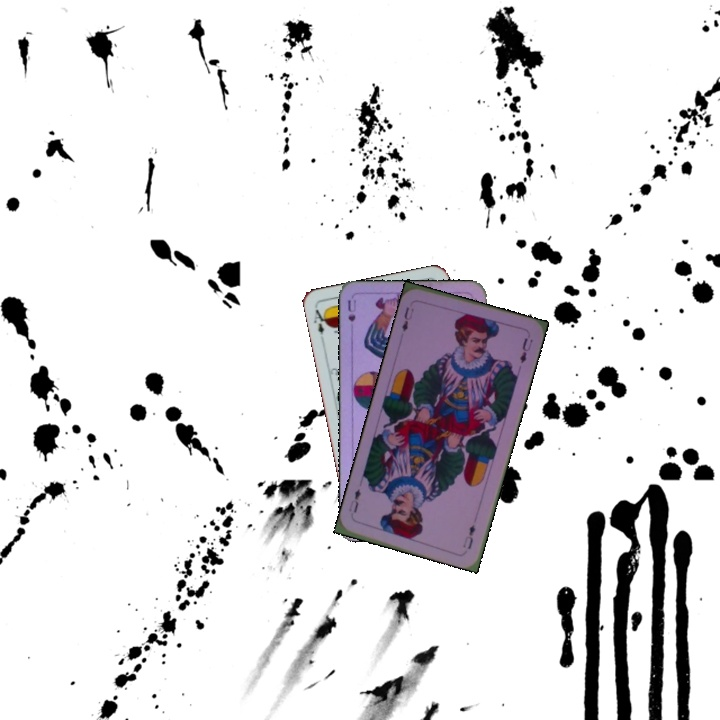EA: (310, 304, 331, 337)
EU: (459, 520, 478, 552), (398, 303, 417, 334)
SU: (343, 296, 359, 336)
